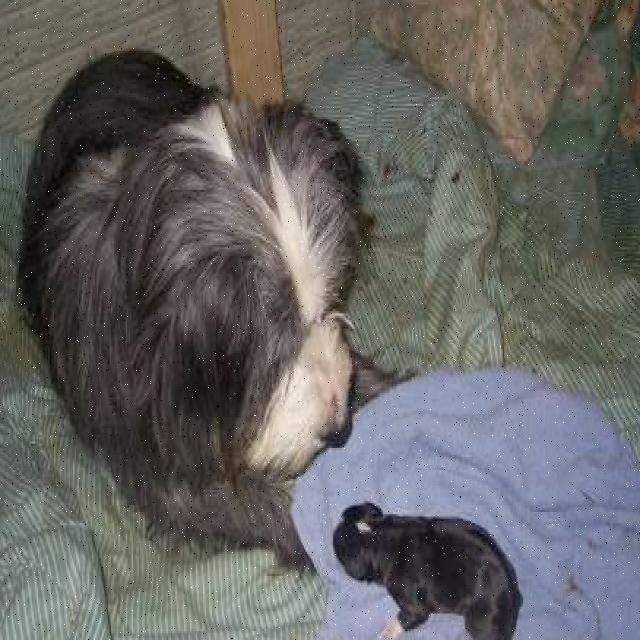Dog: (156, 84, 376, 482)
